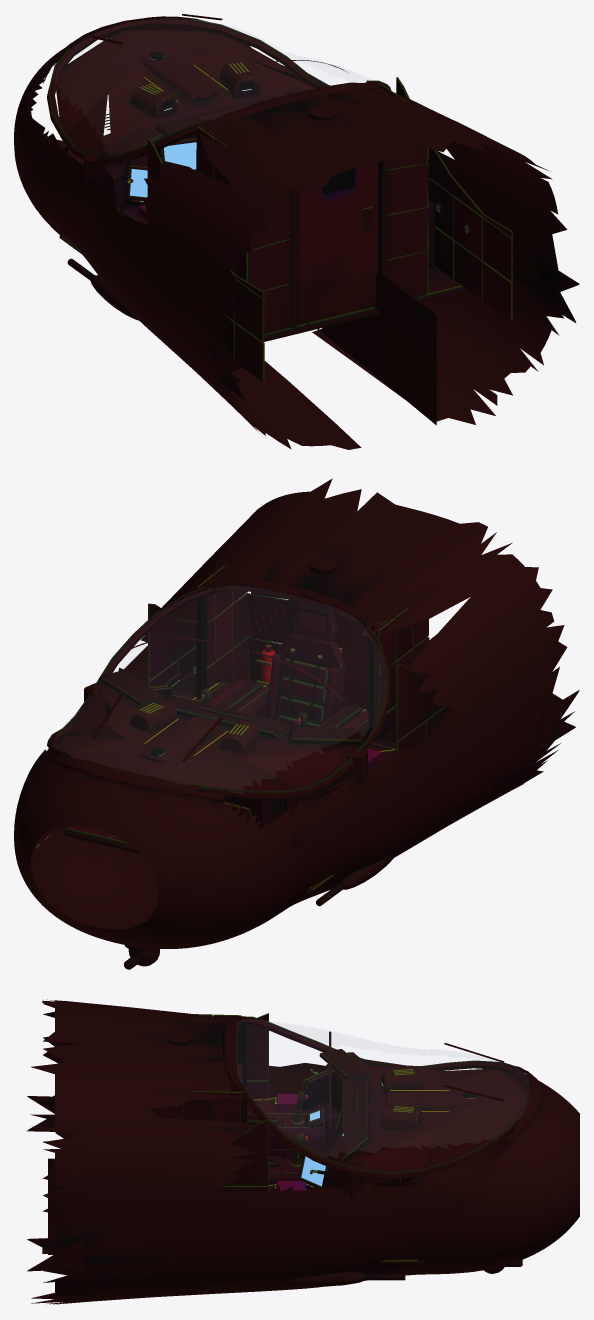
File: DohleCockpit.glb
3 views of the same model, one above another, from view 1: azimuth 30°, elevation 25°; view 2: azimuth 150°, elevation 25°; view 3: azimuth 270°, elevation 25° (orthographic). The views are drawn at different scales.
Visible parts, largest first — view 1: DohleCockpit, DohleCockpitGlas; view 2: DohleCockpit; view 3: DohleCockpit, DohleCockpitGlas.
Boxes of the visible parts, x1=… form: DohleCockpit: x1=14, y1=14, x2=579, y2=449; DohleCockpitGlas: x1=185, y1=19, x2=371, y2=82; DohleCockpit: x1=14, y1=478, x2=579, y2=969; DohleCockpit: x1=27, y1=999, x2=579, y2=1305; DohleCockpitGlas: x1=265, y1=1021, x2=503, y2=1063.
Size of what is drawn, in the model's own units: 2.71 by 2.14 by 4.53.
